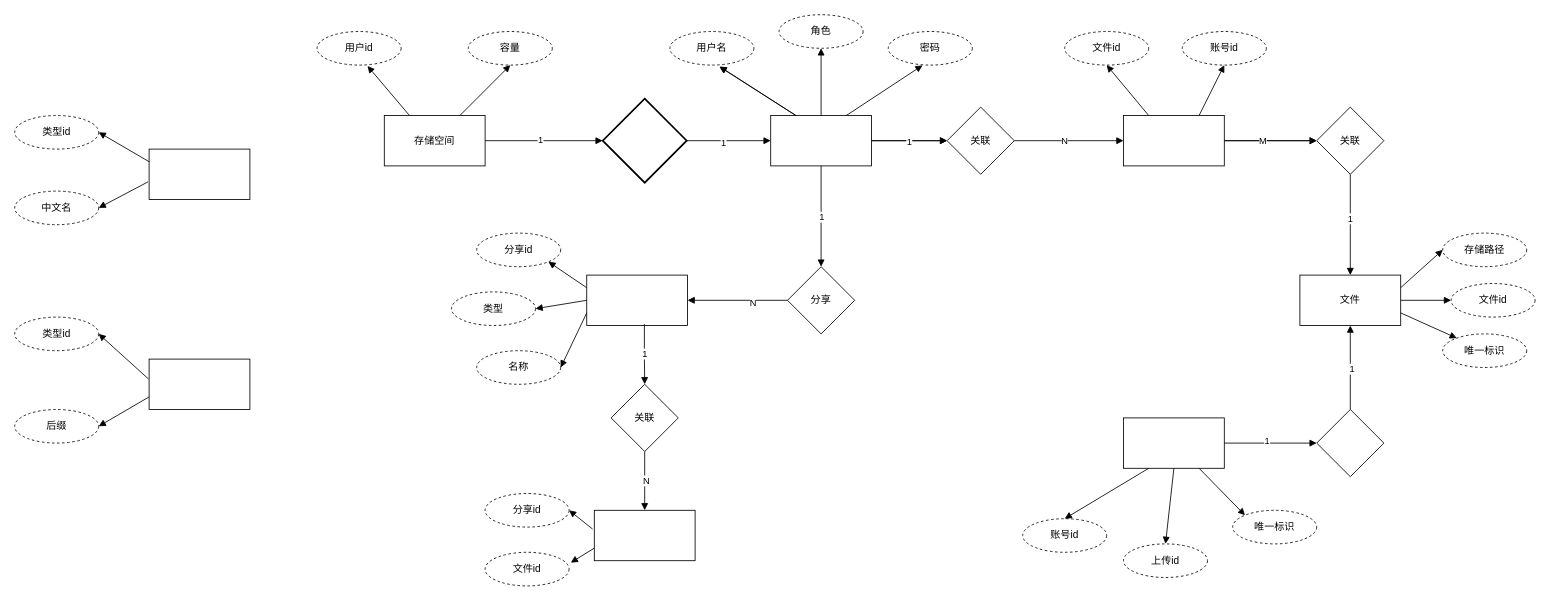
The diagram is 1550 pixels wide and 601 high, and some of its shapes have lost their labels. The shapes that lost their labels are listed below. From the top down, each one's box as (x1, y1, x2, y2) in pixels, then its label:
(601, 97, 687, 183): 创建
(770, 115, 872, 166): 账号
(1123, 115, 1224, 166): 账号_文件
(148, 148, 250, 200): 文件类型
(586, 274, 688, 326): 分享主表
(148, 358, 250, 410): 文件后缀
(1123, 417, 1224, 468): 分片上传
(1316, 409, 1384, 477): 上传
(593, 509, 695, 561): 分享子表
